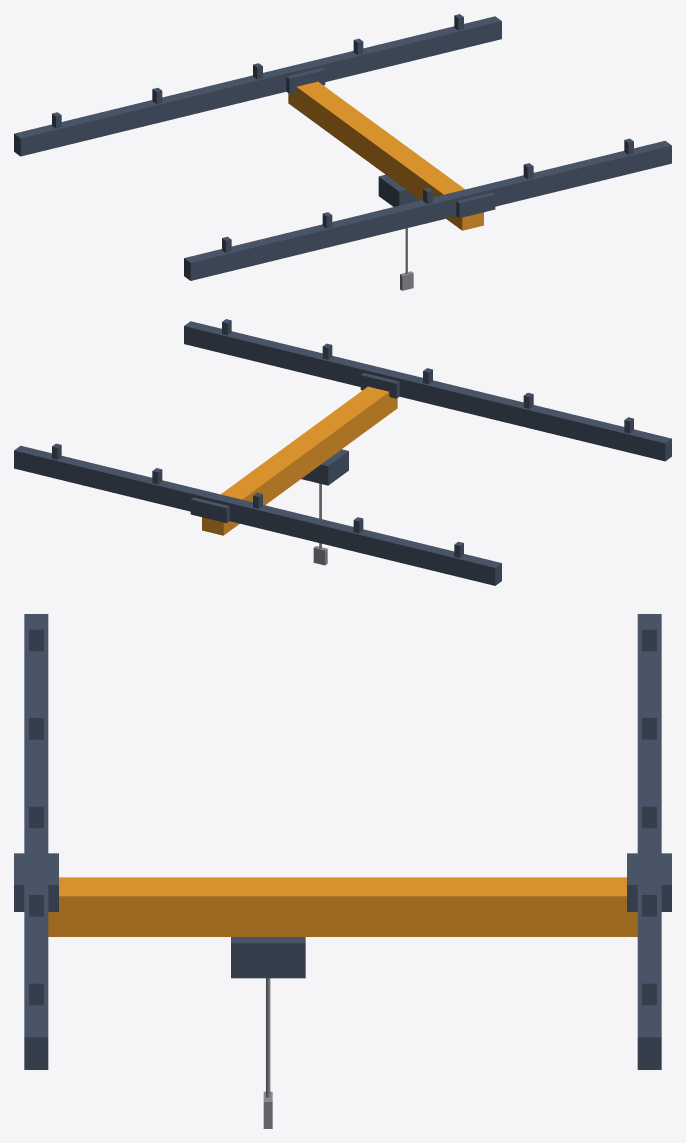
File: ms1_crane.obj
The picture shows the model from 3 angles, top to bottom: view 1: azimuth 30°, elevation 25°; view 2: azimuth 150°, elevation 25°; view 3: azimuth 270°, elevation 25°; orthographic projection. The views are drawn at different scales.
Parts seen in each view (by area): view 1: ms1_crane; view 2: ms1_crane; view 3: ms1_crane.
Boxes of the visible parts, x1,y1,x2,y2 form: ms1_crane: [14, 14, 671, 290]; ms1_crane: [14, 319, 671, 585]; ms1_crane: [14, 614, 671, 1128].
Size of the model in its own units: 6.7 by 2.08 by 4.4.
